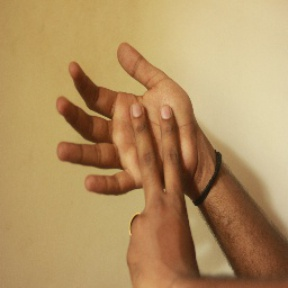N: (51, 45, 205, 241)
